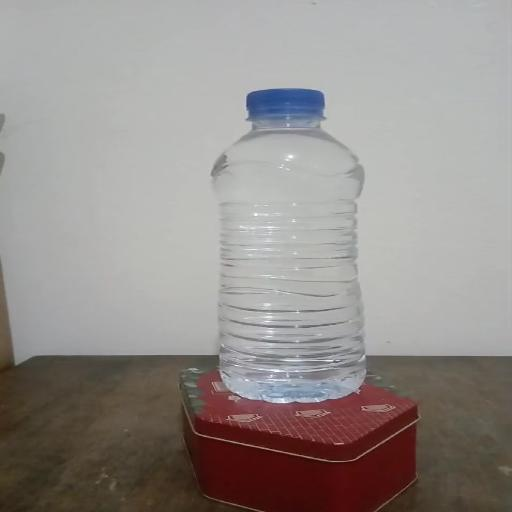bouteille non conformite: (177, 86, 422, 410)
